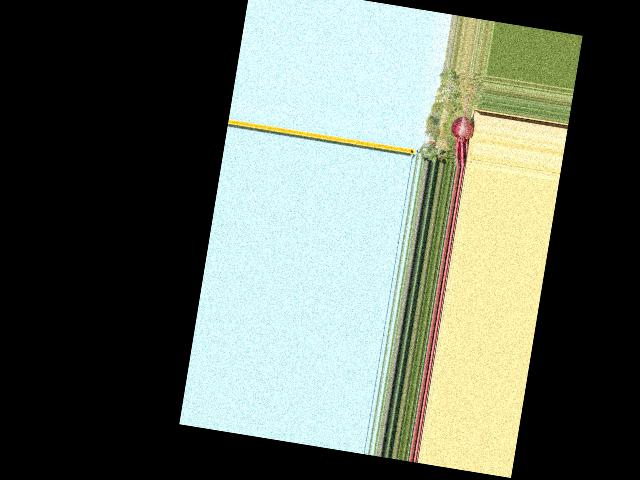beet: (445, 73, 482, 168)
